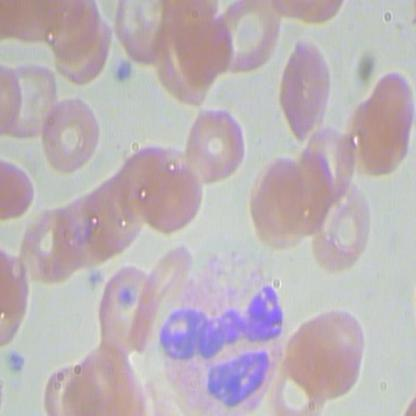Platelets: (110, 56, 135, 87), (81, 264, 105, 295), (4, 348, 28, 378)
RBC: (269, 36, 337, 147), (308, 167, 376, 278), (273, 305, 341, 415), (348, 64, 415, 175), (303, 292, 370, 403), (36, 89, 110, 182), (177, 100, 251, 192), (98, 258, 153, 367), (140, 151, 204, 244), (247, 157, 311, 250), (1, 55, 64, 148), (211, 1, 289, 75), (112, 143, 169, 234), (90, 166, 147, 257), (67, 183, 124, 274), (19, 200, 75, 291), (105, 1, 188, 61), (41, 16, 113, 84)
WBC: (150, 250, 287, 415)
